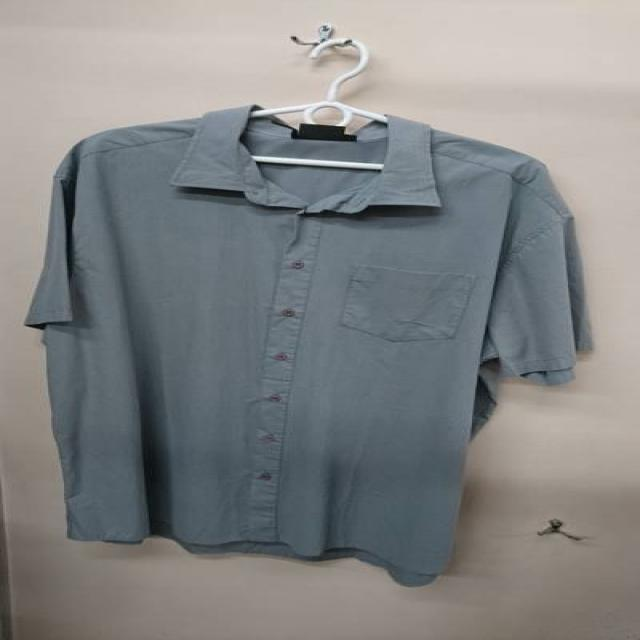Clothes -Biodegradable-: (16, 102, 594, 586)
